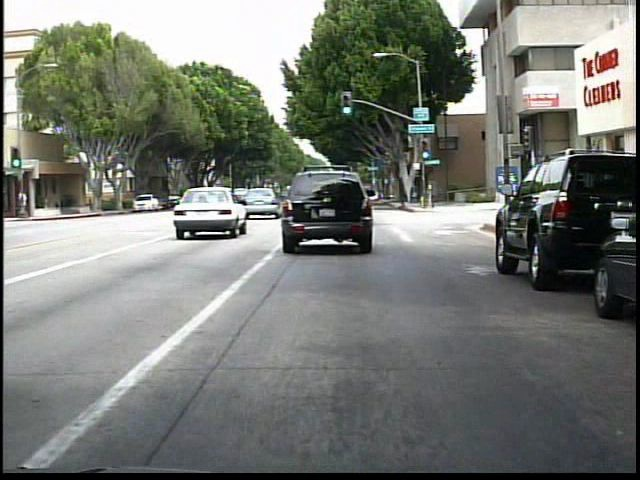person: (17, 187, 36, 218)
